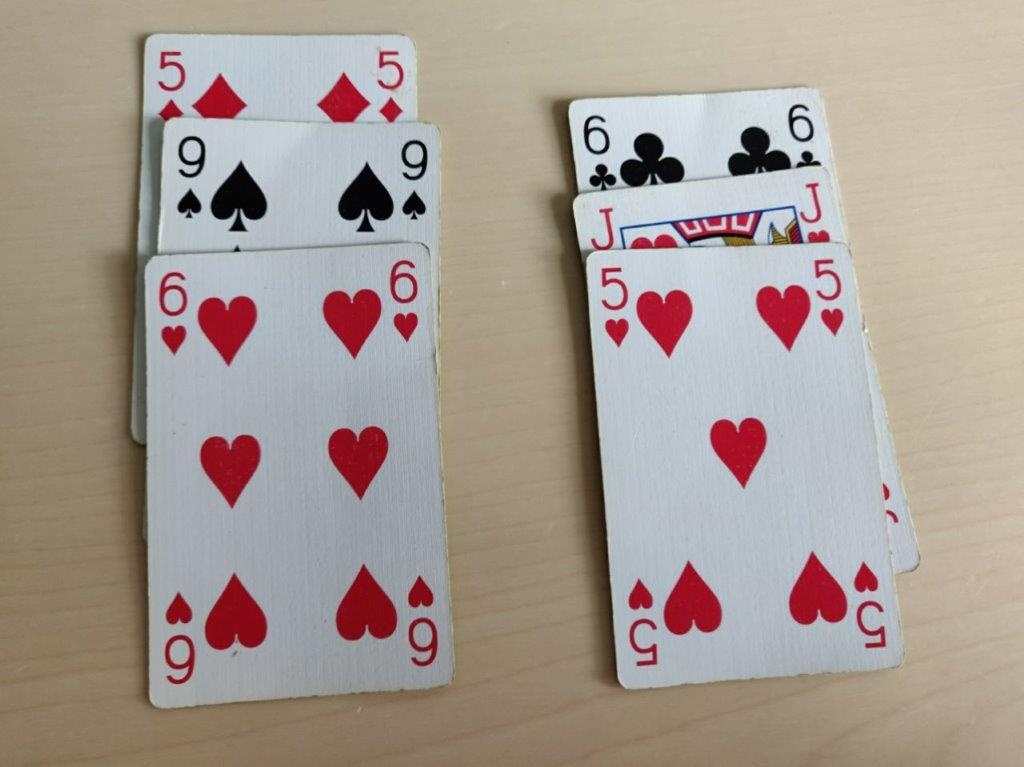5D: (371, 43, 408, 128)
5H: (806, 254, 851, 338), (595, 261, 632, 350)
6C: (575, 111, 619, 194)
6H: (152, 265, 190, 358), (384, 253, 420, 345)
9S: (174, 128, 209, 222), (396, 136, 430, 223)
